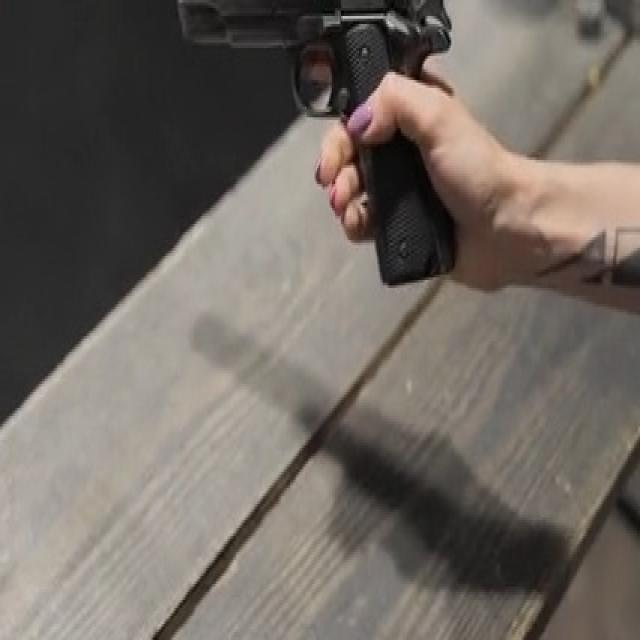Gun_Holder: (172, 0, 477, 274)
